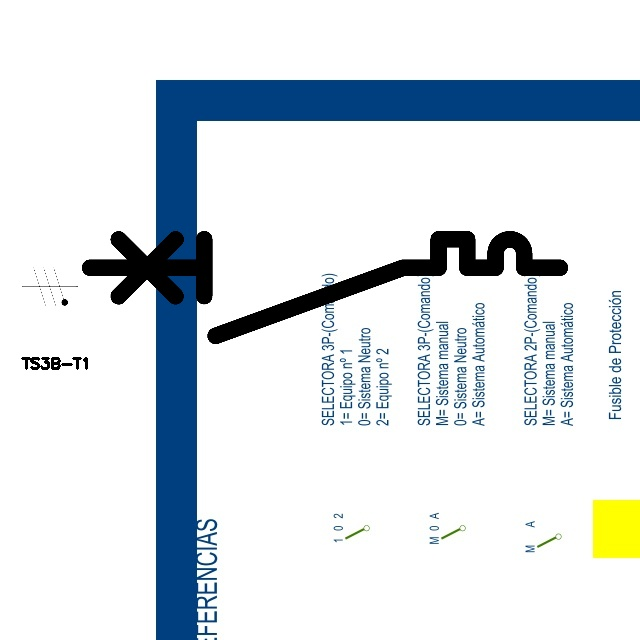interruptor_termomagnetico: (77, 227, 571, 348)
